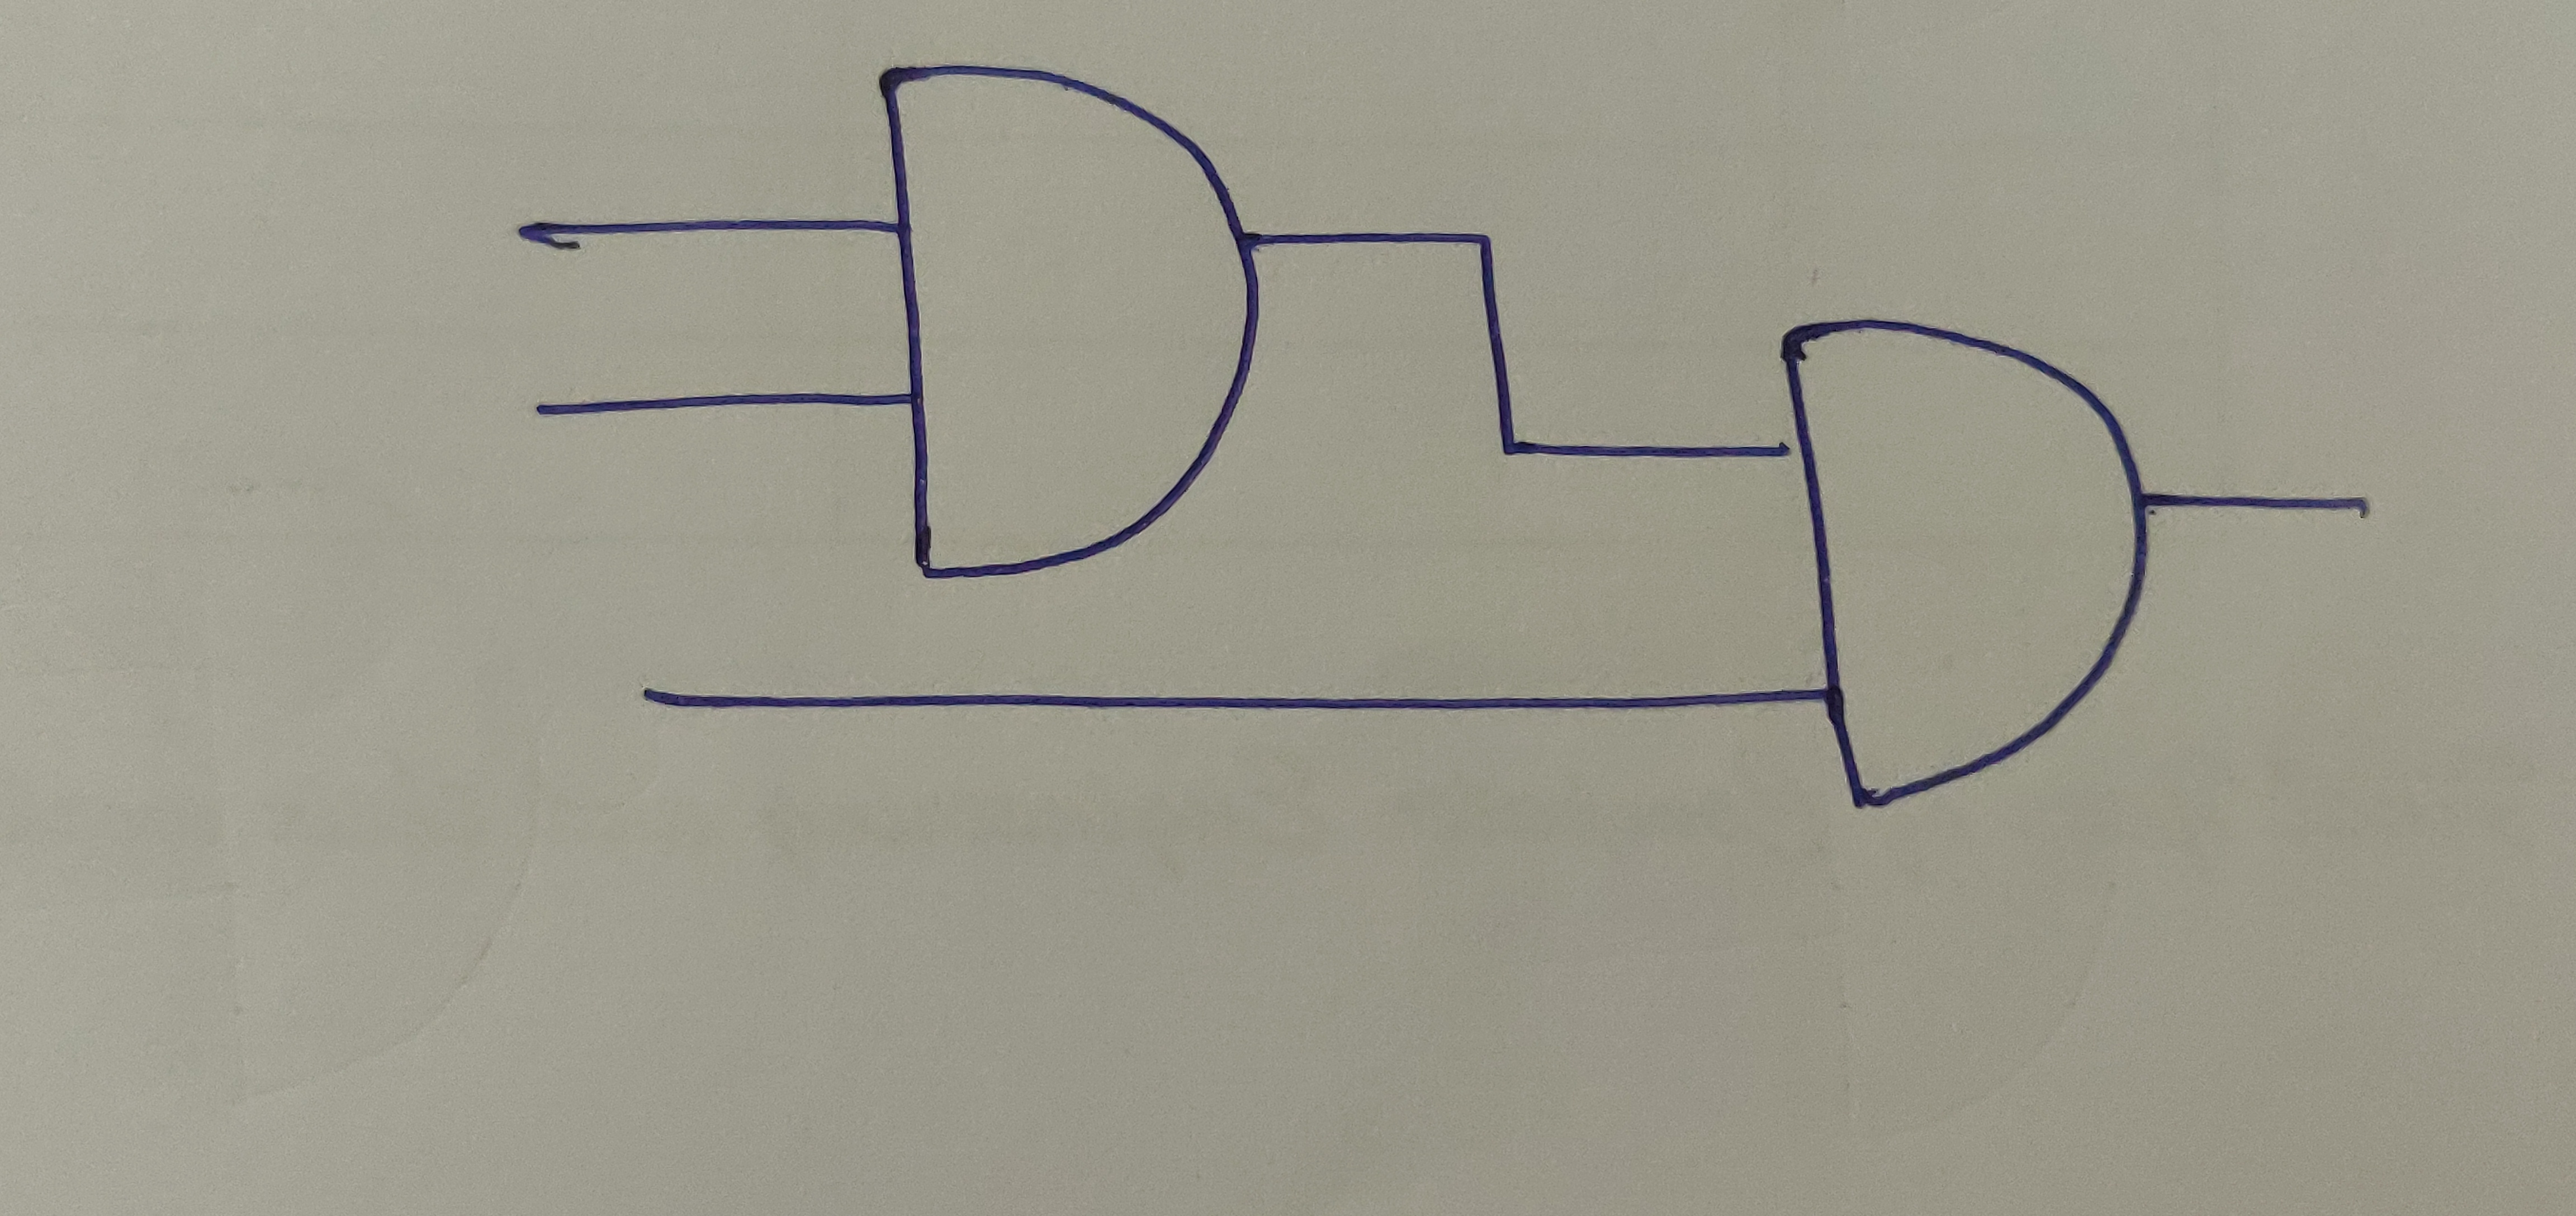and: (866, 58, 1265, 585), (1771, 311, 2152, 812)
